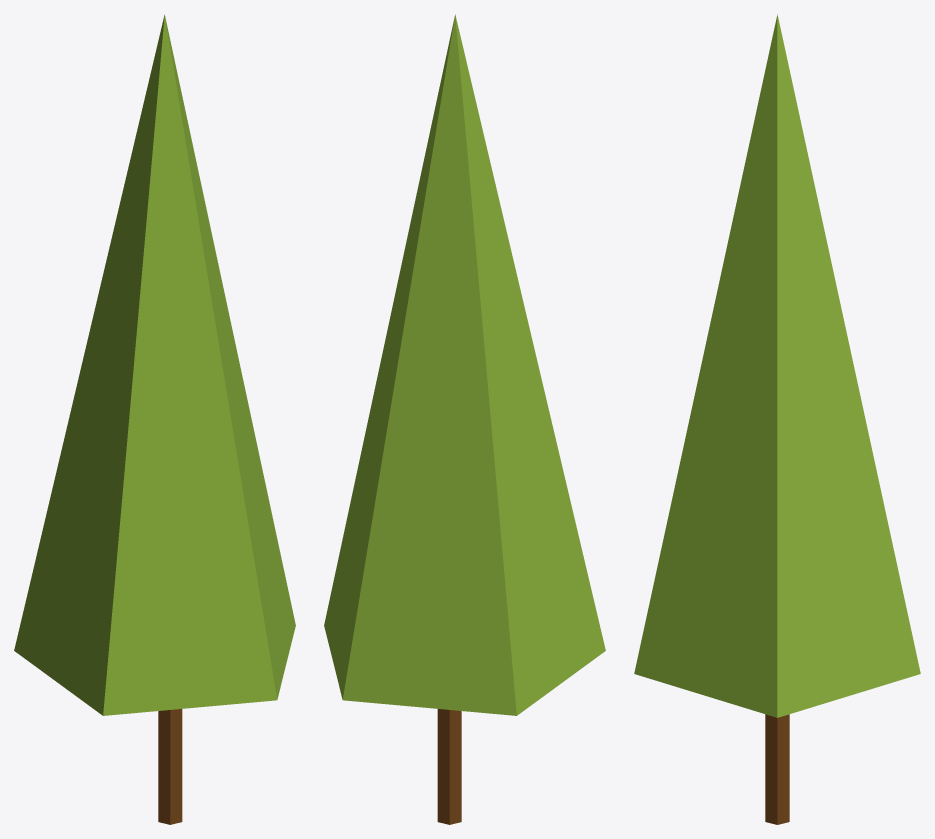
File: SM_Arbol02.fbx
The picture shows the model from 3 angles, left to right: view 1: azimuth 30°, elevation 25°; view 2: azimuth 150°, elevation 25°; view 3: azimuth 270°, elevation 25°; orthographic projection.
Visible parts, largest first — view 1: Hojas, Tronco; view 2: Hojas, Tronco; view 3: Hojas, Tronco.
Part boxes in pixels (bbox=[...]): Hojas: bbox=[14, 14, 295, 715]; Tronco: bbox=[158, 709, 182, 824]; Hojas: bbox=[324, 14, 605, 715]; Tronco: bbox=[437, 709, 461, 824]; Hojas: bbox=[634, 14, 920, 717]; Tronco: bbox=[765, 714, 789, 824].
Bounding box in the file's own units: 90.45 × 294 × 95.11.
